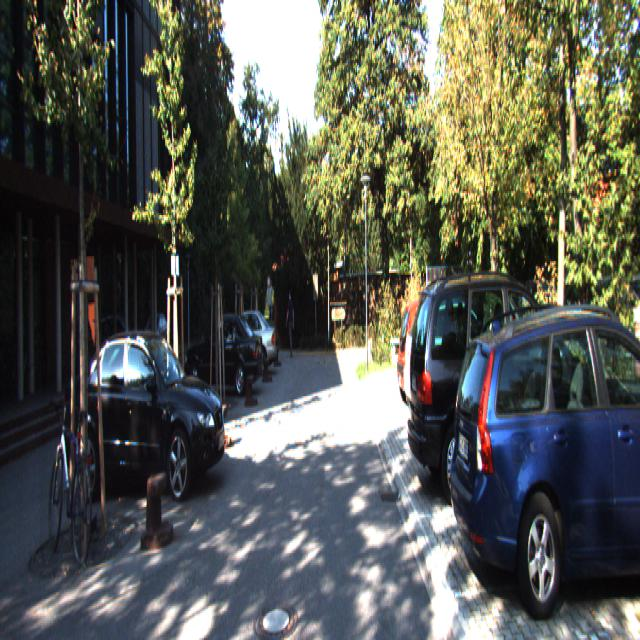Car: (443, 294, 640, 614), (404, 267, 600, 511), (59, 330, 229, 503), (184, 315, 266, 404), (213, 309, 276, 377)
